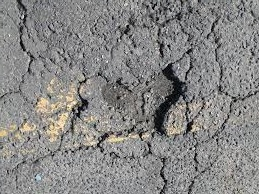pothole: (142, 65, 182, 137), (100, 77, 131, 118)
